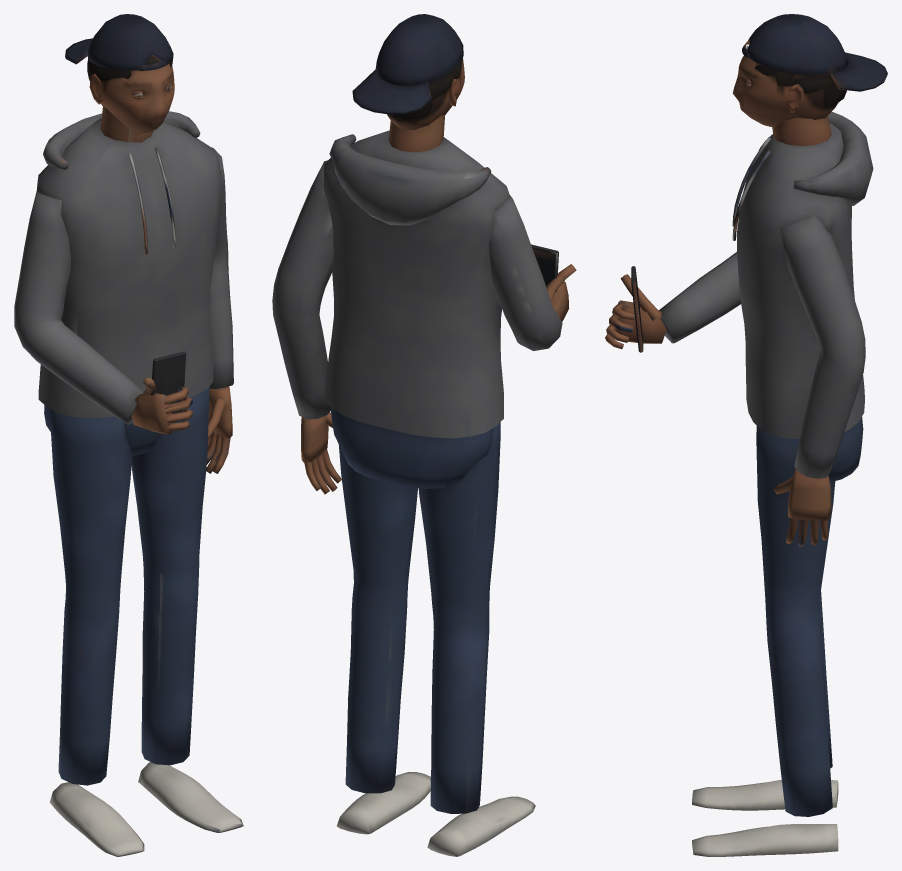
File: hafiz_standing.glb
3 renders of one model, left to right at view 1: azimuth 30°, elevation 25°; view 2: azimuth 150°, elevation 25°; view 3: azimuth 270°, elevation 25°, orthographic. The views are drawn at different scales.
Visible parts, largest first — view 1: Hafiz, LegR, LegL, Head; view 2: Hafiz, LegR, LegL, Head; view 3: Hafiz, LegL, Head, LegR.
Boxes of the visible parts, x1,y1,x2,y2 form: Hafiz: (14, 106, 233, 473); LegR: (49, 411, 144, 856); LegL: (131, 387, 243, 832); Head: (65, 14, 174, 133); Hafiz: (272, 114, 576, 494); LegR: (418, 422, 535, 856); LegL: (337, 444, 430, 834); Head: (352, 14, 464, 129); Hafiz: (605, 111, 873, 547); LegL: (692, 426, 838, 856); Head: (732, 14, 887, 127); LegR: (692, 591, 838, 810).
Bounding box in the file's own units: 0.5465 × 1.72 × 0.5474.
Materials: 5 (5 with a texture image).
